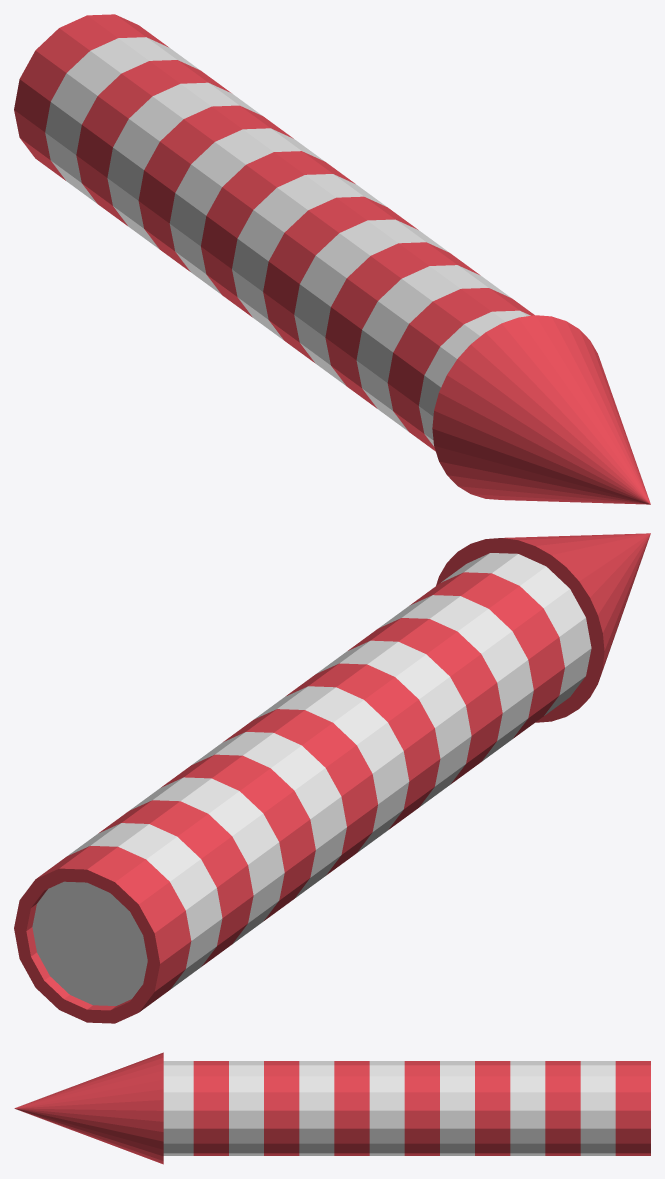
Rendered from FireWork.fbx.
The picture shows the model from 3 angles, top to bottom: view 1: azimuth 30°, elevation 25°; view 2: azimuth 150°, elevation 25°; view 3: azimuth 270°, elevation 25°; orthographic projection. The views are drawn at different scales.
Parts seen in each view (by area): view 1: FireWork; view 2: FireWork; view 3: FireWork.
Part boxes in pixels (left/top/right/bottom): FireWork: left=14, top=14, right=650, bottom=504; FireWork: left=14, top=533, right=650, bottom=1023; FireWork: left=14, top=1052, right=650, bottom=1164.
Size of the model in its own units: 20.16 by 20.16 by 114.
